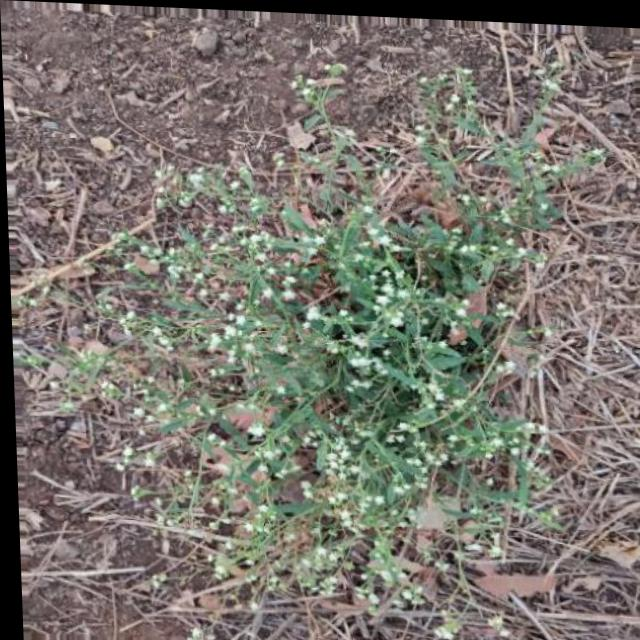crop: (122, 163, 529, 540)
